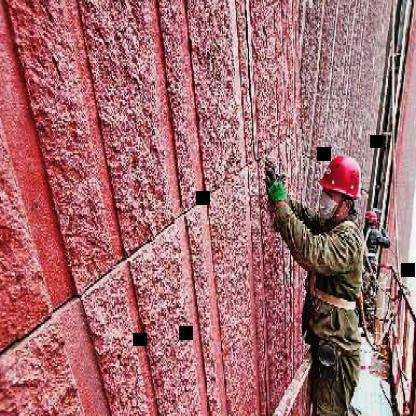helmet: (318, 150, 364, 229), (364, 208, 380, 240)
